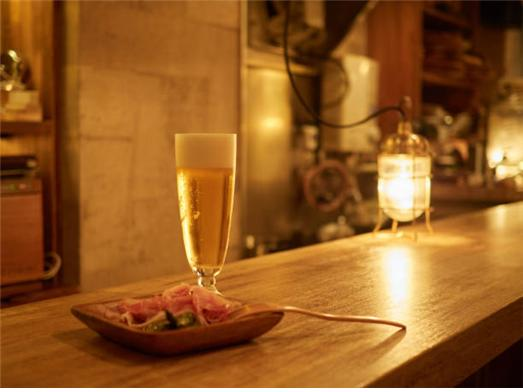alcohol: (172, 131, 236, 293)
